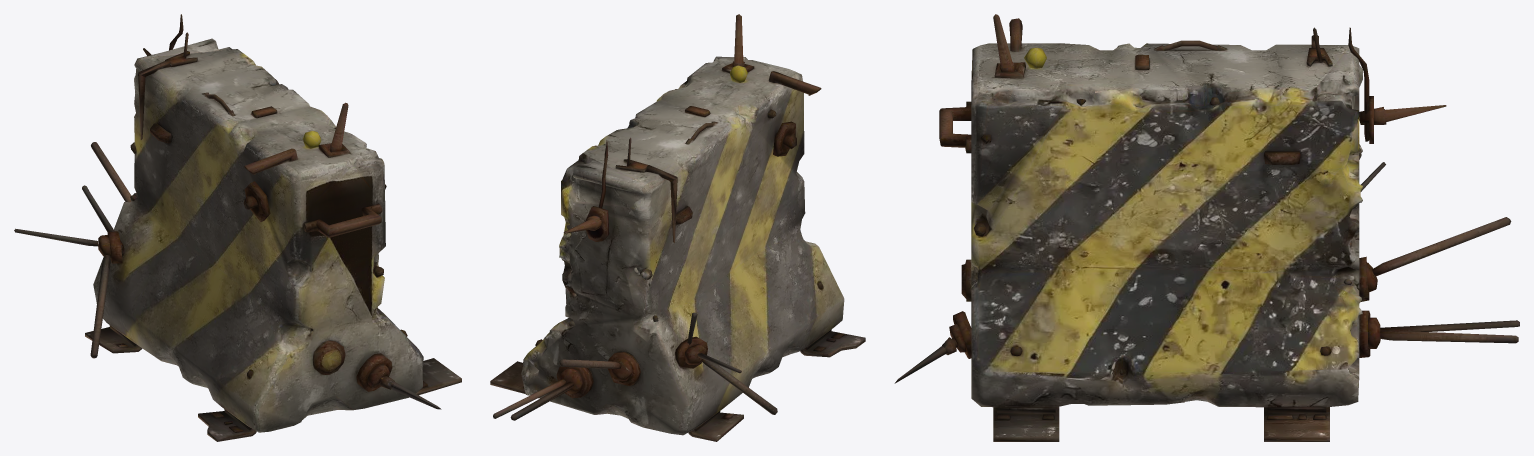
File: abandoned_roadblock.glb
3 views of the same model, side by side, from view 1: azimuth 30°, elevation 25°; view 2: azimuth 150°, elevation 25°; view 3: azimuth 270°, elevation 25° (orthographic). The views are drawn at different scales.
Parts seen in each view (by area): view 1: tripo_node_01bbb31b-73f8-4d57-82b5-f5e3d6916dc7; view 2: tripo_node_01bbb31b-73f8-4d57-82b5-f5e3d6916dc7; view 3: tripo_node_01bbb31b-73f8-4d57-82b5-f5e3d6916dc7.
Part boxes in pixels (x1,y1,x2,y2): tripo_node_01bbb31b-73f8-4d57-82b5-f5e3d6916dc7: (14,14,461,441); tripo_node_01bbb31b-73f8-4d57-82b5-f5e3d6916dc7: (490,14,865,441); tripo_node_01bbb31b-73f8-4d57-82b5-f5e3d6916dc7: (894,14,1519,441).
Size of the model in its own units: 0.6113 by 0.6426 by 0.998.
Materials: 1 (1 with a texture image).
